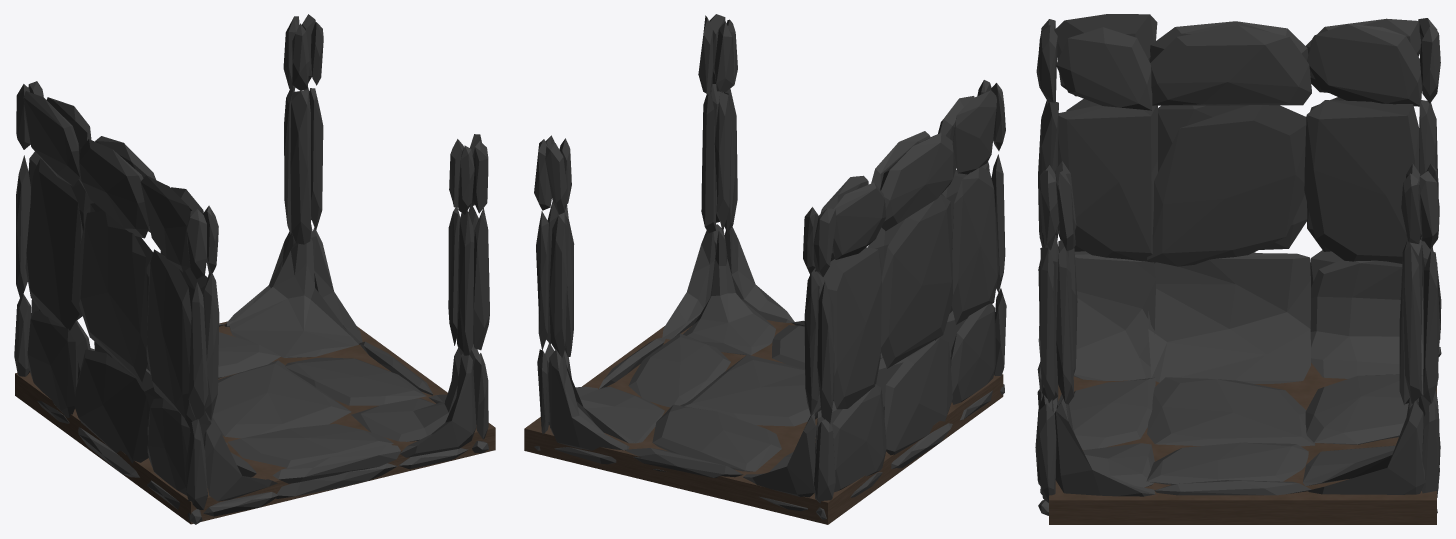
Rendered from T_Junction.fbx.
3 renders of one model, left to right at view 1: azimuth 30°, elevation 25°; view 2: azimuth 150°, elevation 25°; view 3: azimuth 270°, elevation 25°, orthographic. The views are drawn at different scales.
Visible parts, largest first — view 1: T_Junction_Path, Dirt_T; view 2: T_Junction_Path, Dirt_T; view 3: T_Junction_Path, Dirt_T.
Part boxes in pixels (box(x1,y1,x2,y2)): T_Junction_Path: box(14, 14, 489, 524); Dirt_T: box(15, 321, 495, 524); T_Junction_Path: box(534, 14, 1006, 519); Dirt_T: box(524, 320, 1003, 524); T_Junction_Path: box(1035, 14, 1441, 515); Dirt_T: box(1049, 363, 1436, 524).
Size of the model in its own units: 102 by 100 by 105.
